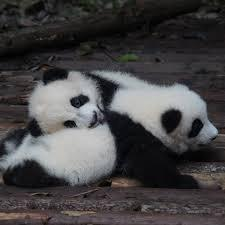bear: (0, 84, 219, 190), (29, 69, 150, 137)
